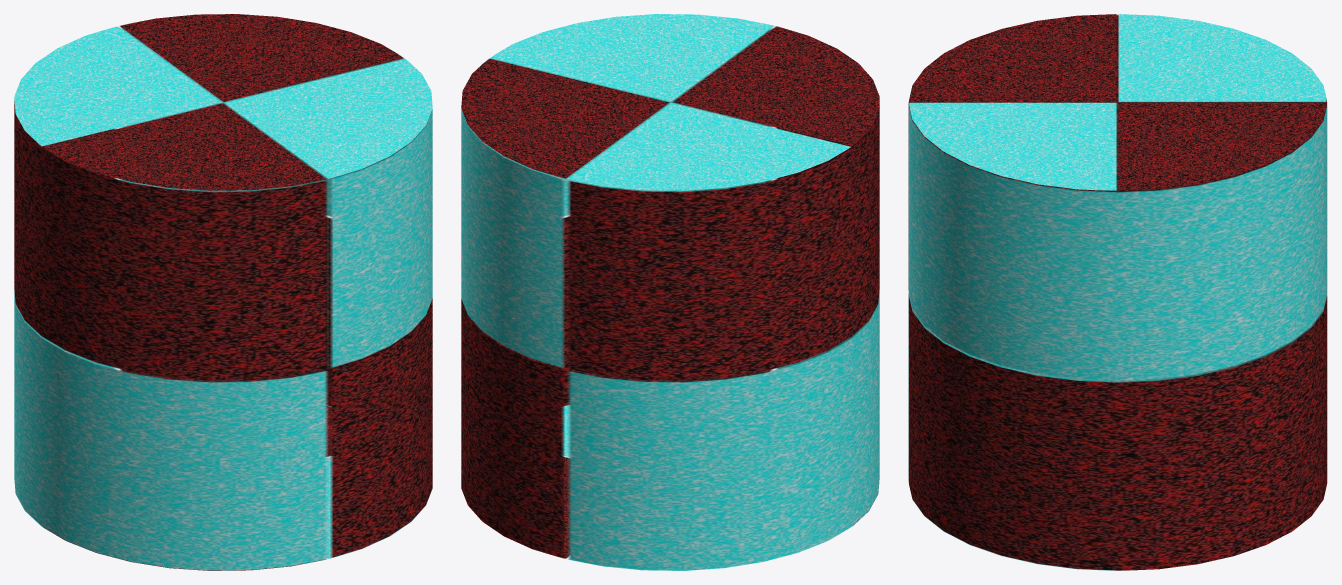
The picture shows the model from 3 angles, left to right: view 1: azimuth 30°, elevation 25°; view 2: azimuth 150°, elevation 25°; view 3: azimuth 270°, elevation 25°; orthographic projection.
Visible parts, largest first — view 1: SM_VFX_Cone_01_LOD0; view 2: SM_VFX_Cone_01_LOD0; view 3: SM_VFX_Cone_01_LOD0.
Part boxes in pixels (x1,y1,x2,y2): SM_VFX_Cone_01_LOD0: (14,14,432,570); SM_VFX_Cone_01_LOD0: (461,14,879,570); SM_VFX_Cone_01_LOD0: (908,14,1327,570).
Bounding box in the file's own units: 1 × 1 × 1.
1 material, 1 textured.
